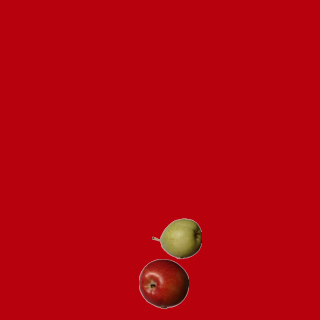Apple Braeburn: (138, 258, 188, 308)
Pear: (151, 213, 201, 263)
